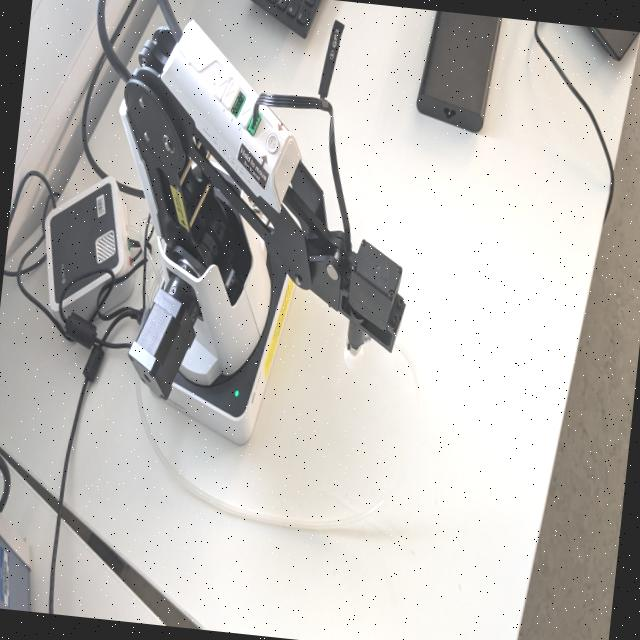Robot-end-effector-HF8z: (333, 234, 414, 376)
